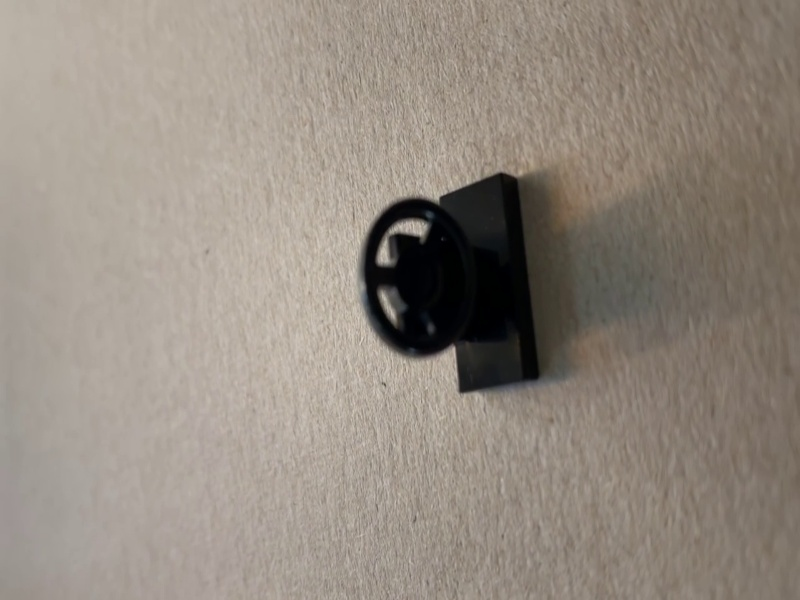steering wheel: (359, 171, 541, 395)
